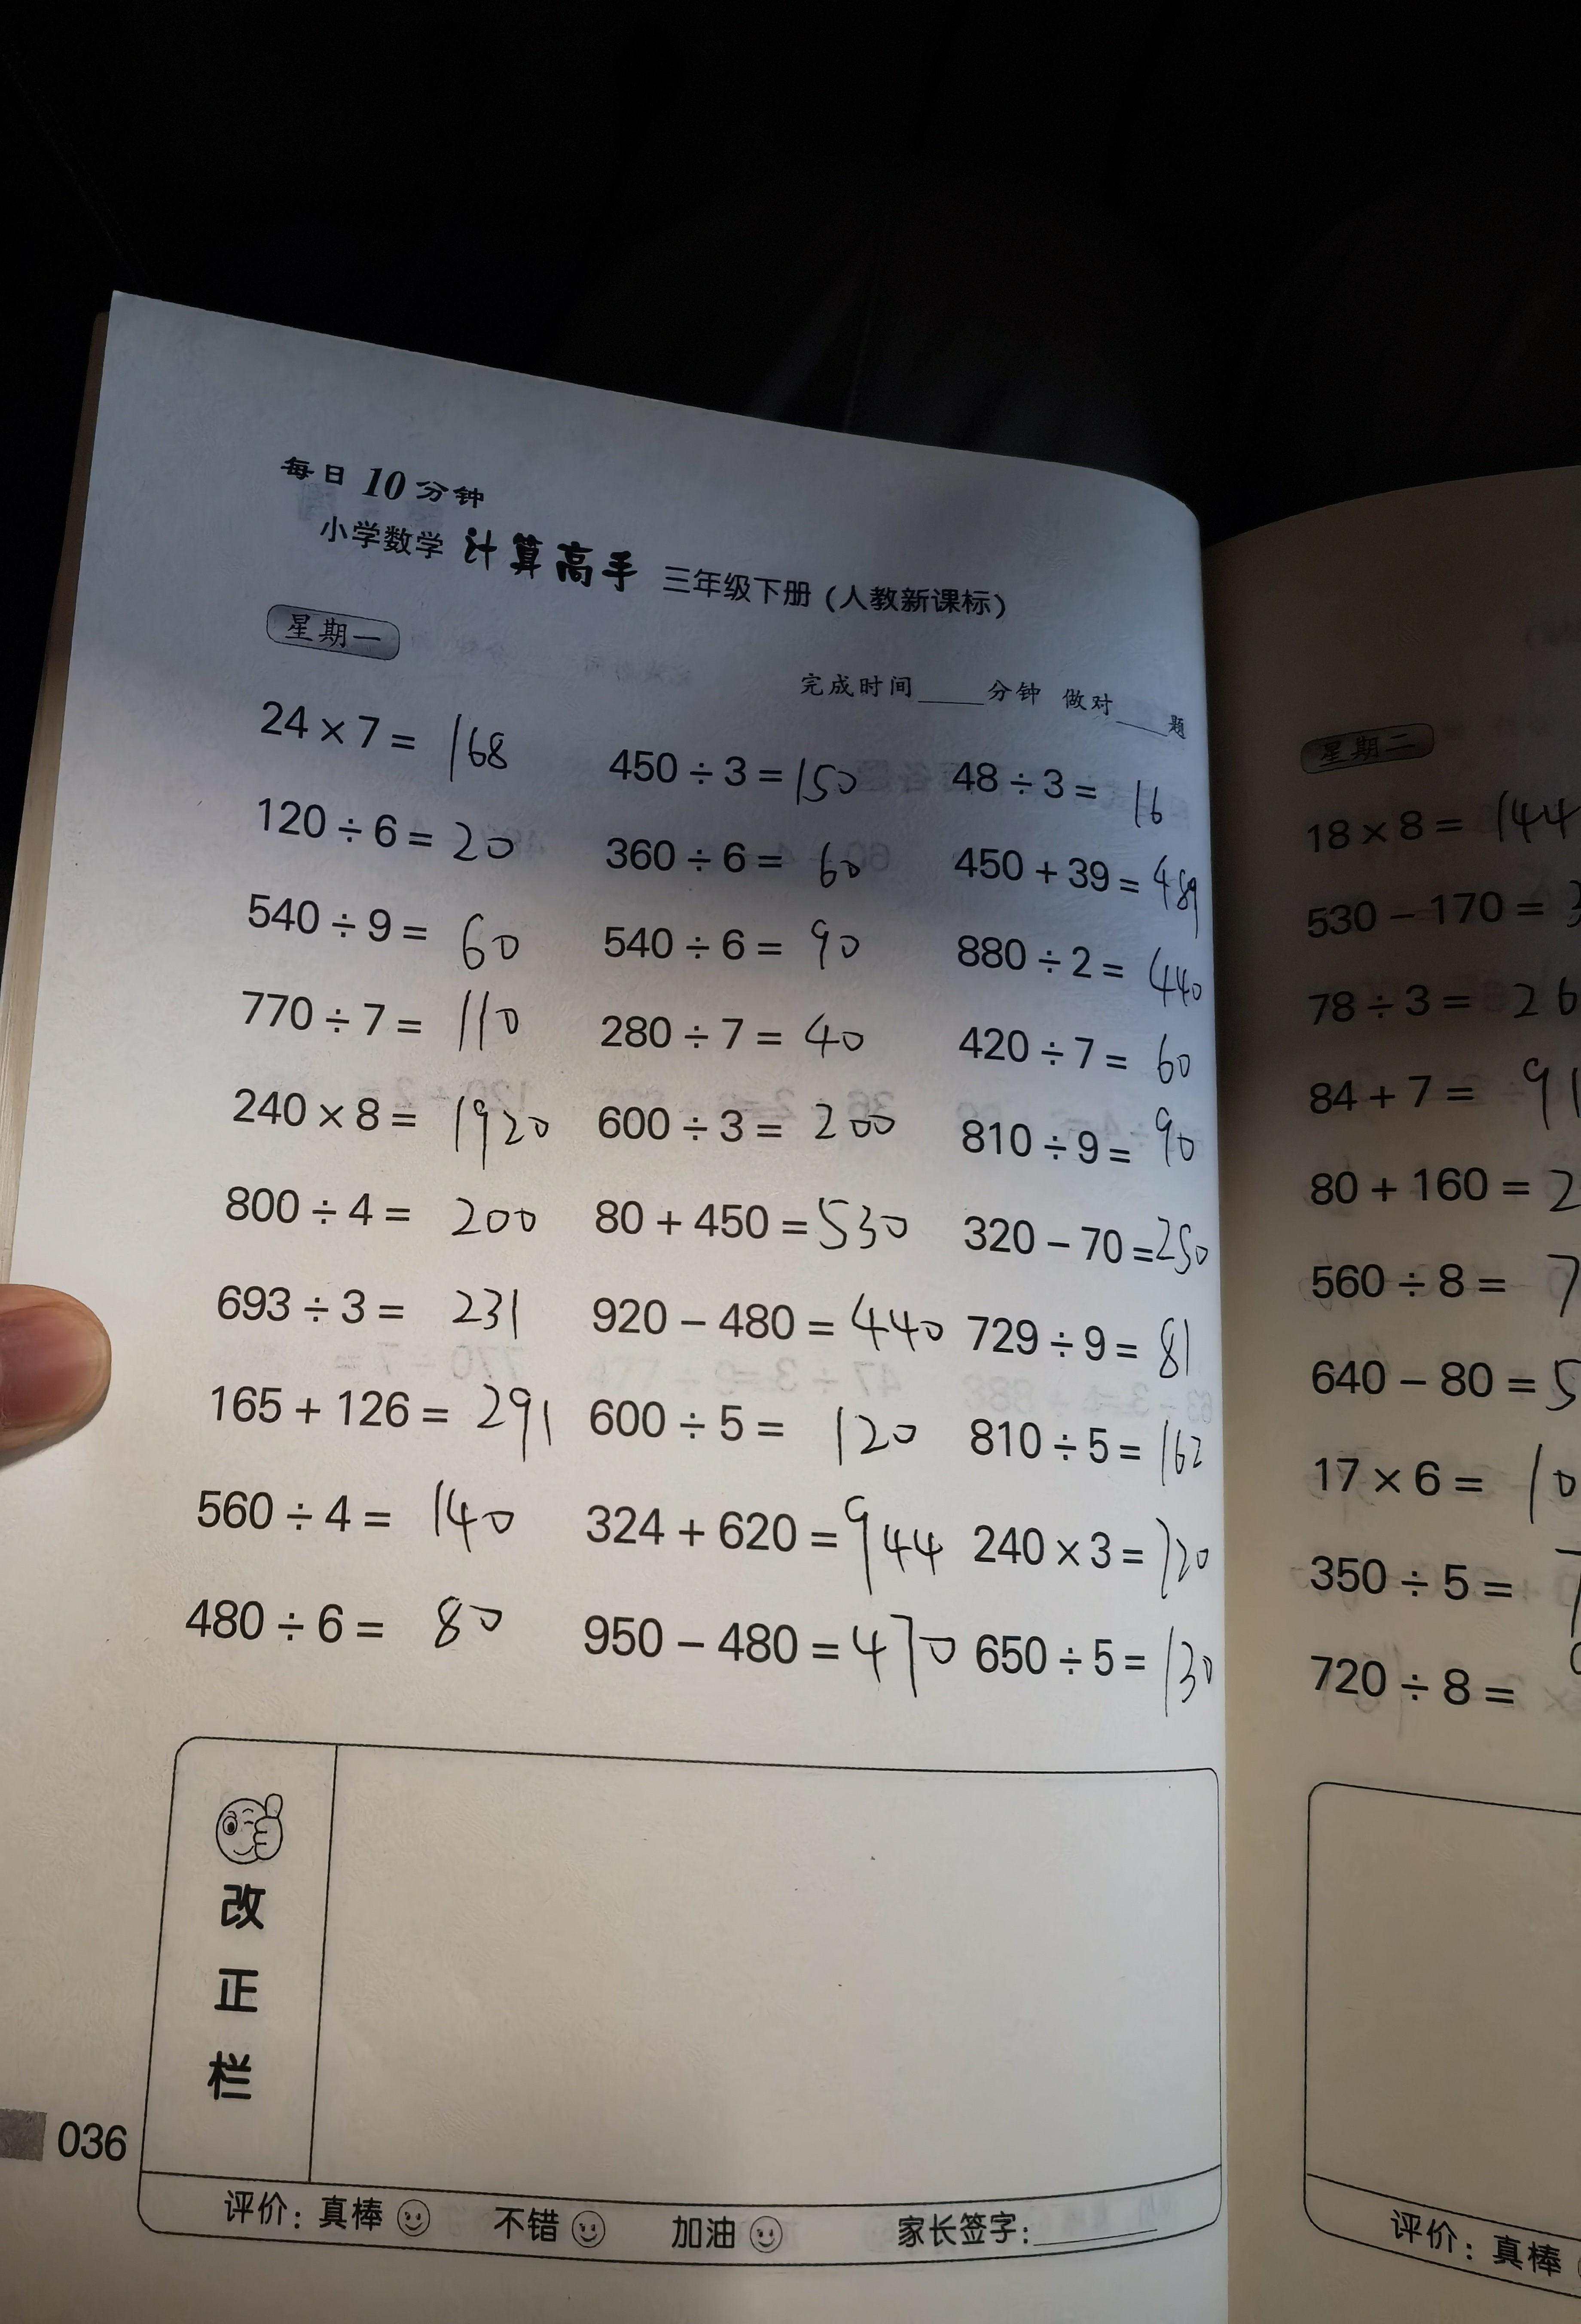equation: (97, 1361, 566, 1472), (554, 1472, 962, 1595), (584, 1581, 979, 1699), (139, 1574, 513, 1662), (595, 1279, 949, 1371), (180, 1463, 522, 1556), (577, 1380, 918, 1472), (176, 1262, 552, 1345), (187, 1168, 561, 1251), (972, 1622, 1265, 1726), (581, 1092, 951, 1173), (584, 898, 884, 995), (948, 833, 1216, 933), (210, 1076, 573, 1151), (236, 967, 559, 1050), (235, 881, 531, 971), (254, 676, 515, 773), (591, 1184, 912, 1262), (965, 1103, 1253, 1188), (969, 1511, 1244, 1599), (254, 792, 535, 877), (584, 1004, 886, 1078), (944, 930, 1216, 1011), (967, 1211, 1218, 1295), (940, 746, 1168, 838), (598, 738, 868, 810), (972, 1299, 1209, 1380), (946, 1027, 1223, 1096), (600, 826, 863, 896), (976, 1403, 1205, 1475)
